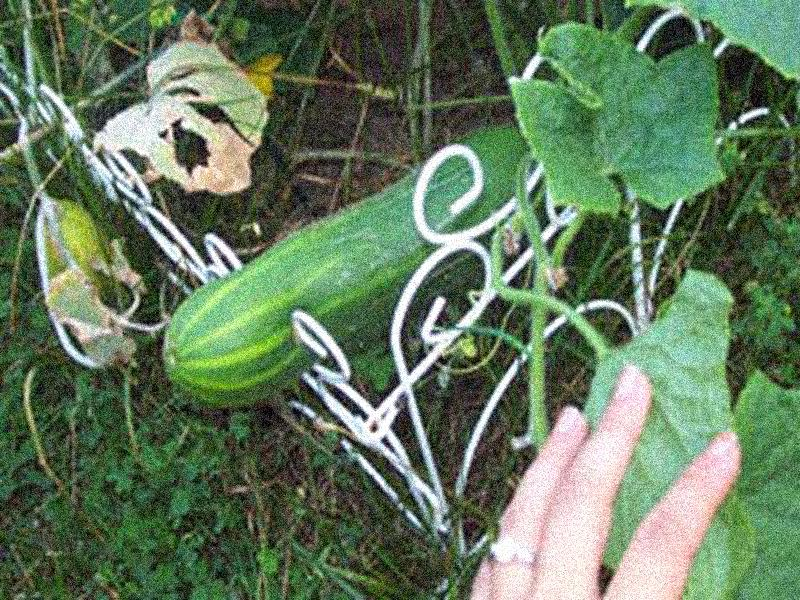Cucumber: (163, 123, 533, 405)
